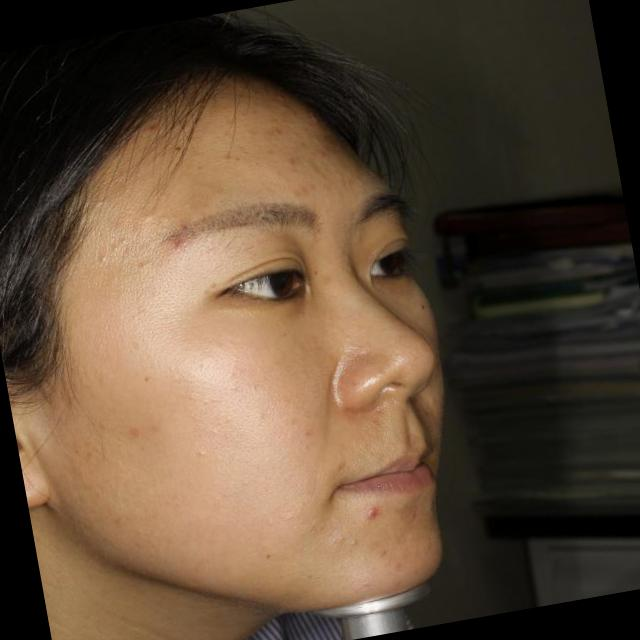acne: (164, 223, 192, 265), (363, 498, 388, 525)
